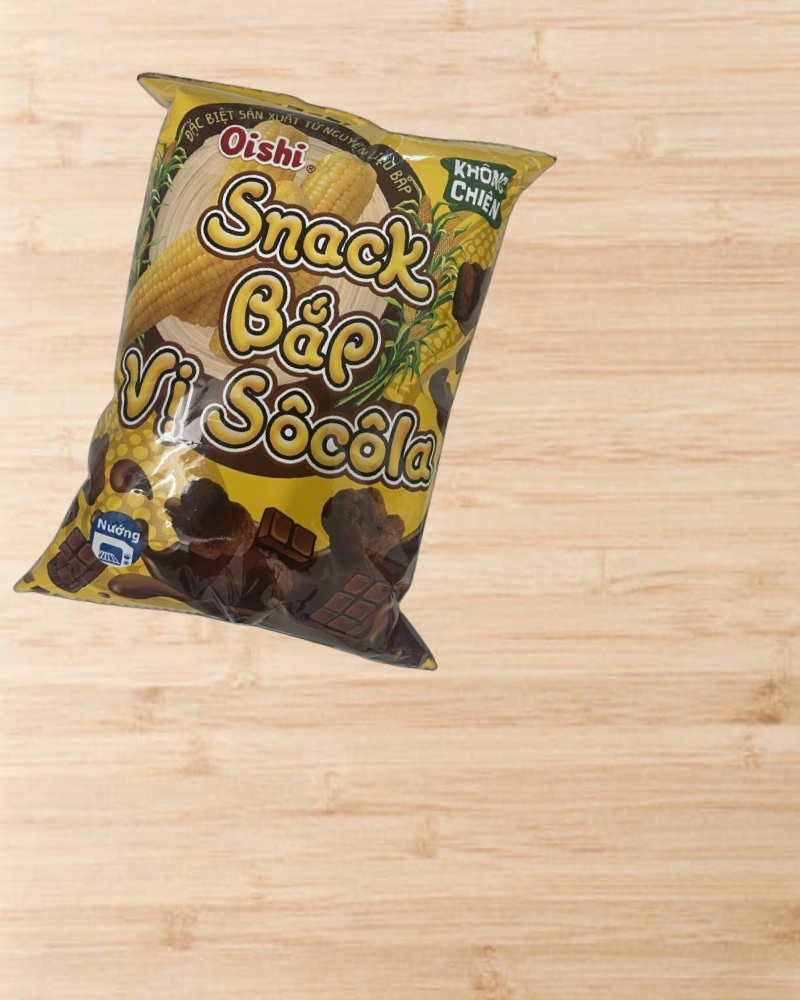Snack socola: (6, 51, 572, 691)
